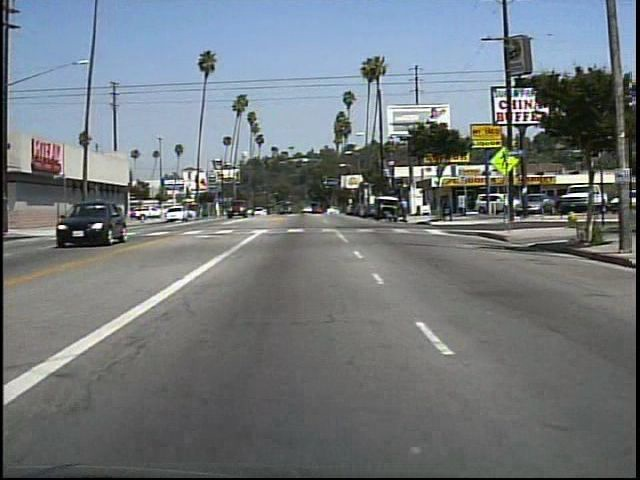person: (398, 194, 412, 225), (112, 199, 125, 224), (382, 208, 399, 227)
